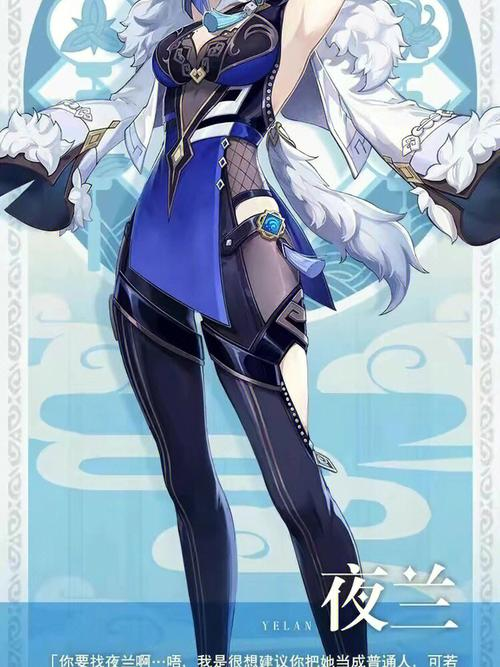夜兰: (102, 1, 373, 662)
